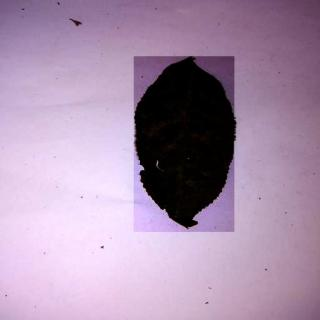Anthracnose: (136, 58, 237, 233)
